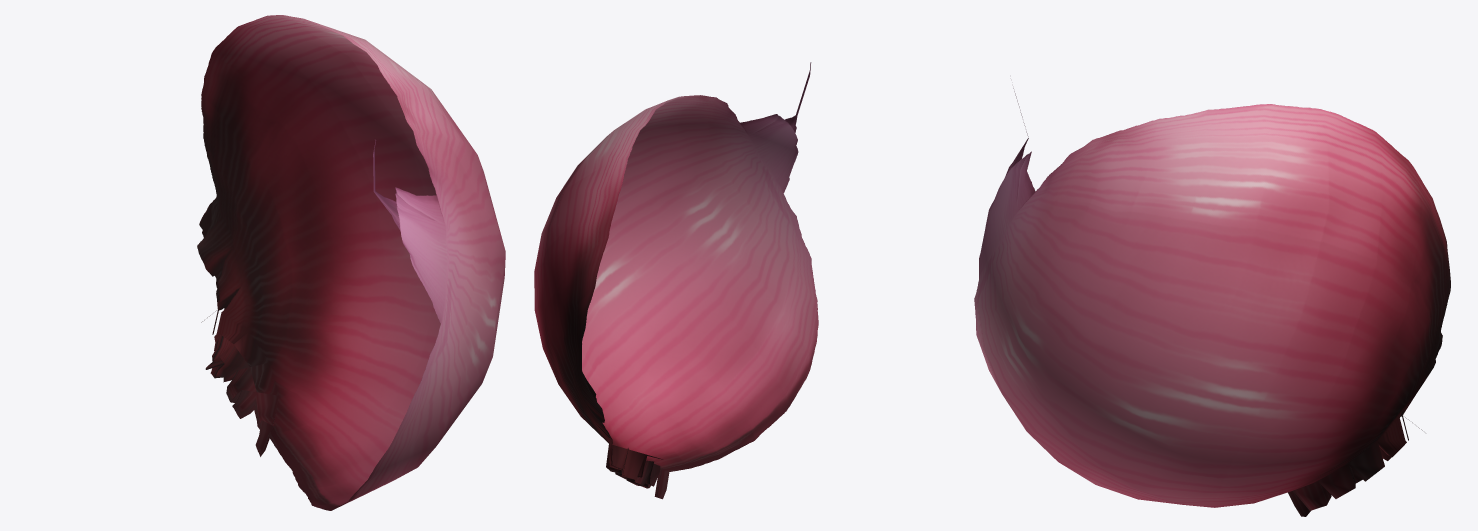
File: RedOnion.fbx
3 views of the same model, side by side, from view 1: azimuth 30°, elevation 25°; view 2: azimuth 150°, elevation 25°; view 3: azimuth 270°, elevation 25° (orthographic). The views are drawn at different scales.
Parts seen in each view (by area): view 1: RedOnion; view 2: RedOnion; view 3: RedOnion.
Part boxes in pixels (bbox=[...]): RedOnion: bbox=[197, 15, 505, 510]; RedOnion: bbox=[534, 62, 818, 499]; RedOnion: bbox=[974, 88, 1450, 516].
Size of the model in its own units: 398 by 448 by 413.
